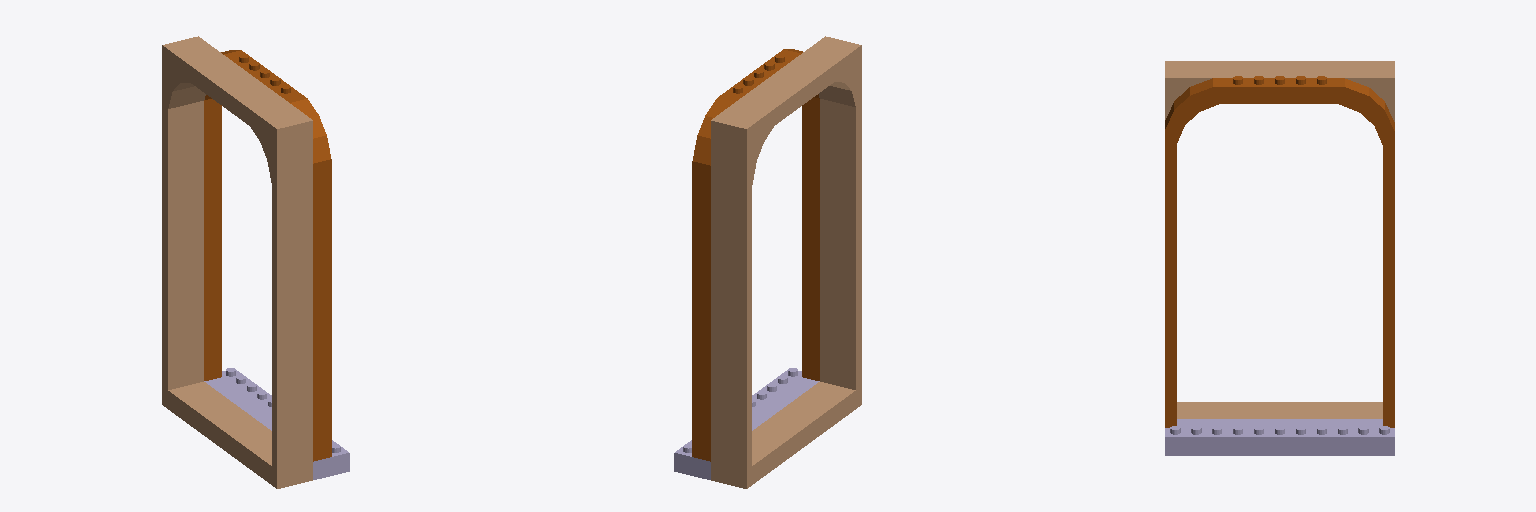
3 views of the same model, side by side, from view 1: azimuth 30°, elevation 25°; view 2: azimuth 150°, elevation 25°; view 3: azimuth 270°, elevation 25° (orthographic).
Visible parts, largest first — view 1: Box001, Box004, Box003; view 2: Box001, Box004, Box003; view 3: Box004, Box001, Box003.
Part boxes in pixels (x1,y1,x2,y2): Box001: (162, 36, 312, 488); Box004: (204, 50, 331, 461); Box003: (204, 370, 349, 479); Box001: (711, 36, 861, 488); Box004: (692, 49, 819, 461); Box003: (674, 370, 819, 479); Box004: (1165, 78, 1394, 427); Box001: (1165, 61, 1394, 418); Box003: (1165, 419, 1394, 455).
Bounding box in the file's own units: 4 × 19.25 × 11.
Materials: 3 (3 with a texture image).